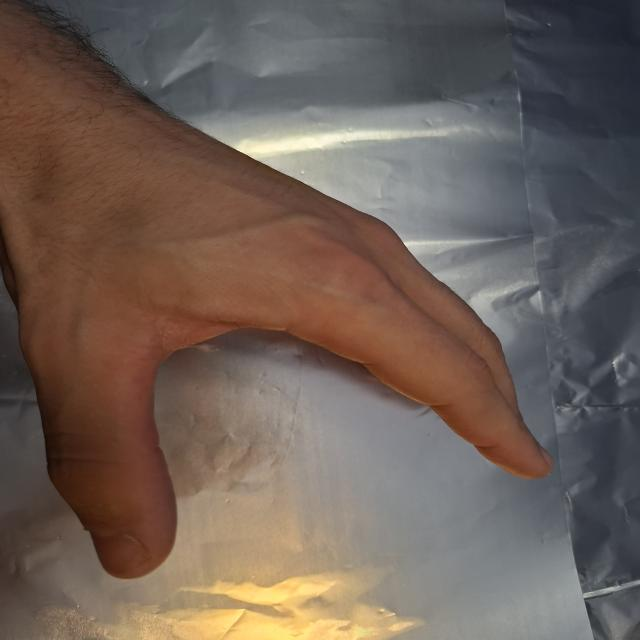glove_off: (0, 137, 558, 581)
